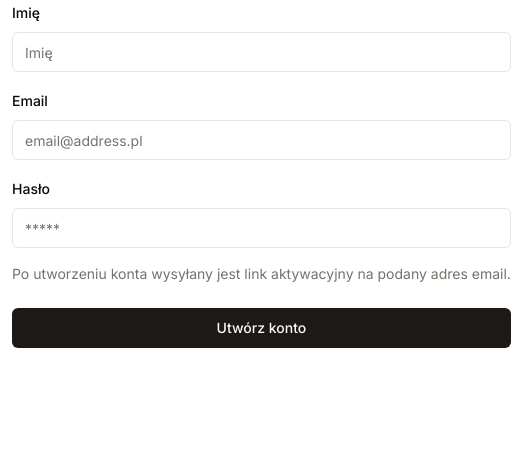
Scenario: Register form component › should render error messages
What coordinates should you click on to do the following:
click the button "Utwórz konto"
I would click on:
 (261, 328)
Its box is [12, 308, 511, 348].
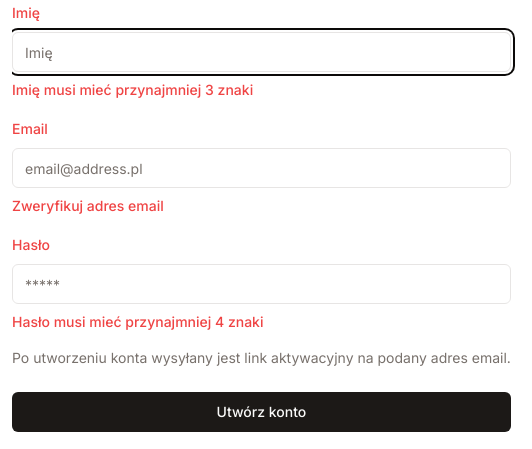
Now the text "Imię musi mieć przynajmniej 3 znaki" is shown, box [12, 81, 253, 98]
Now the text "Zweryfikuj adres email" is shown, box [12, 197, 164, 214]
Now the text "Hasło musi mieć przynajmniej 4 znaki" is shown, box [12, 313, 264, 330]
